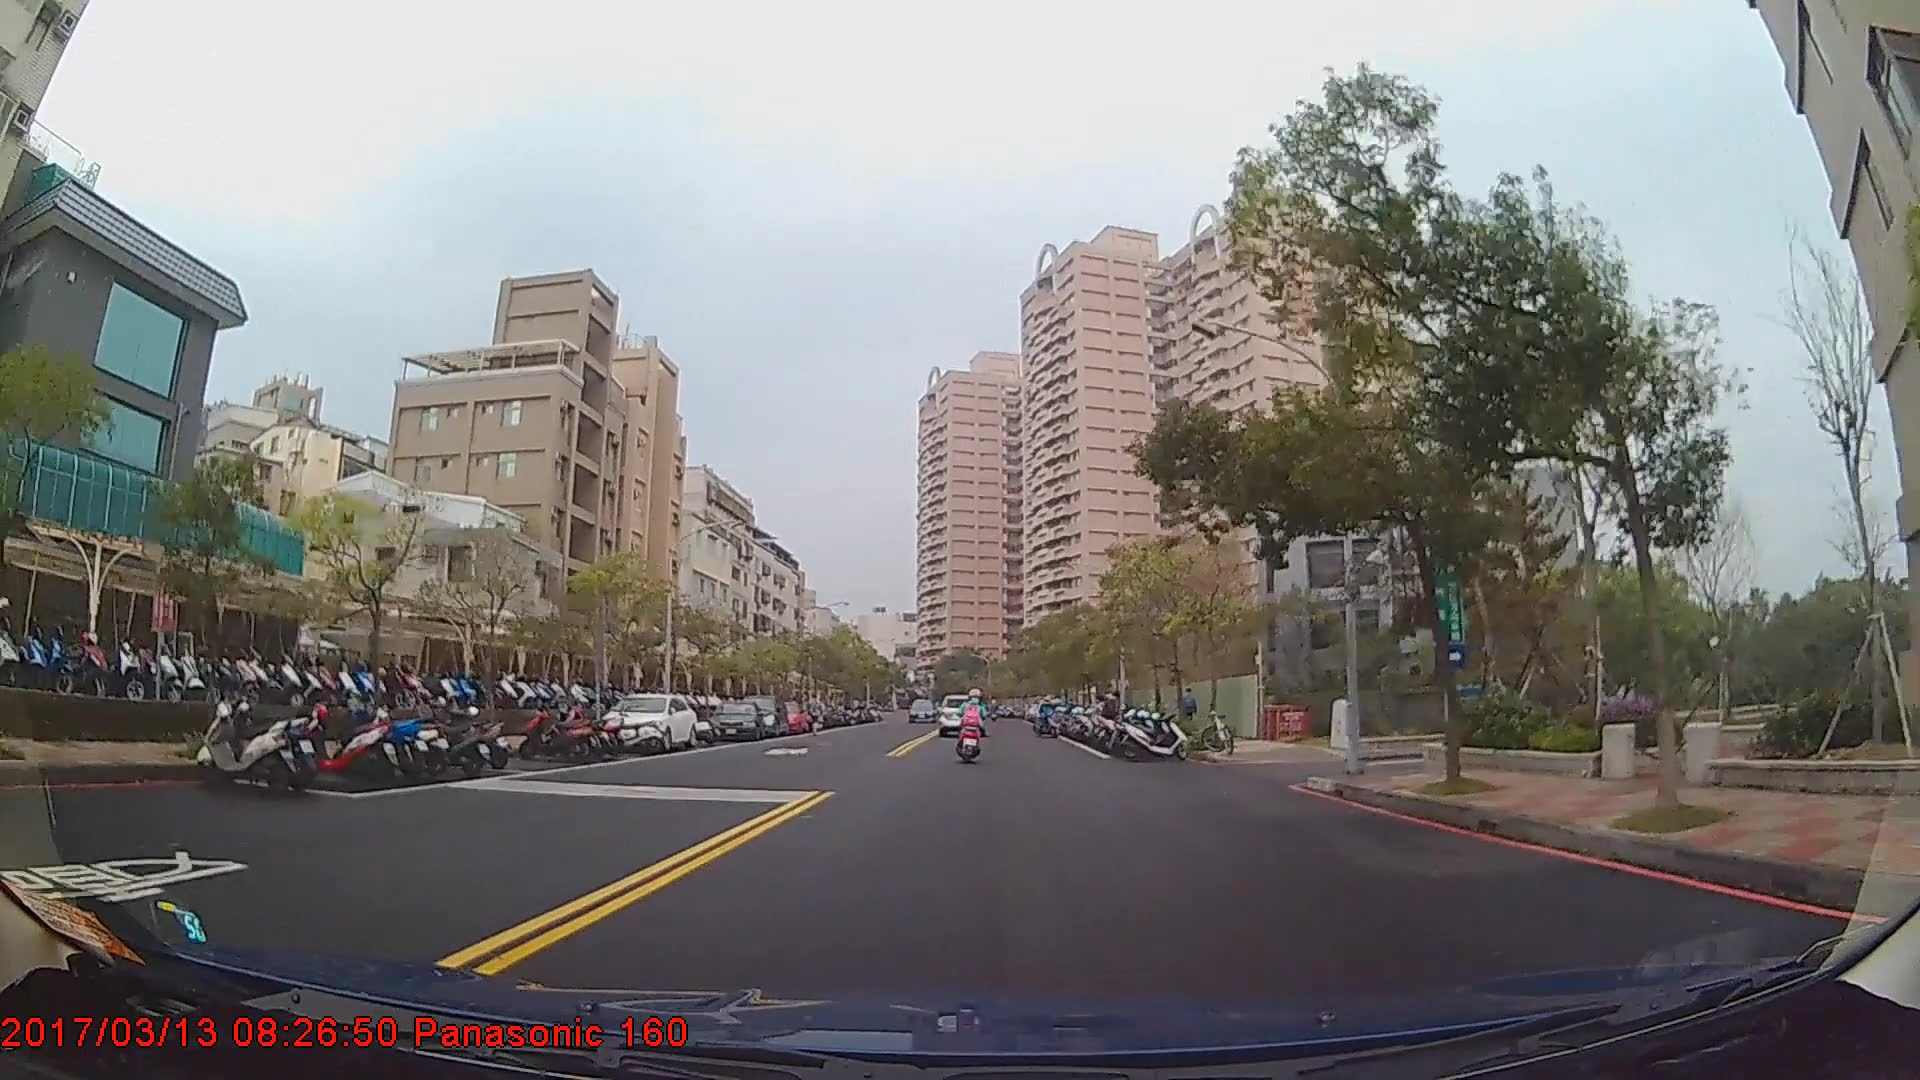pedestrian: (1180, 688, 1200, 740)
rider: (961, 689, 989, 761)
vehicle: (596, 689, 697, 749), (735, 692, 788, 737), (707, 699, 764, 741), (937, 694, 987, 739), (908, 697, 936, 721)
